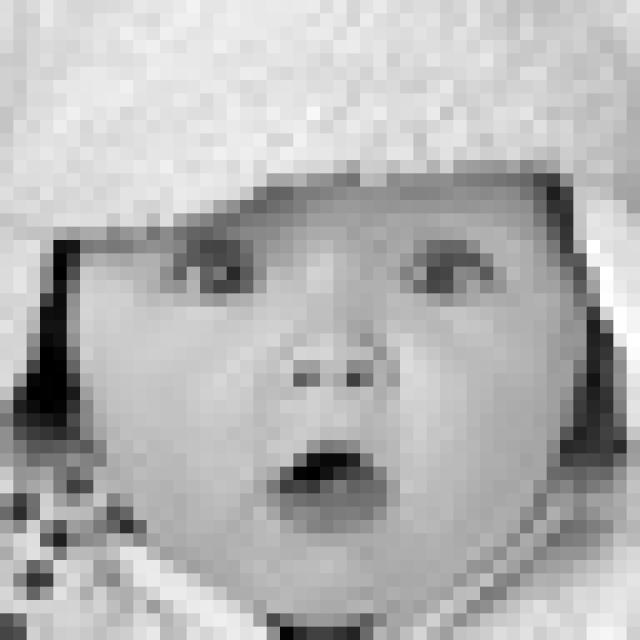surprise: (149, 211, 526, 548)
